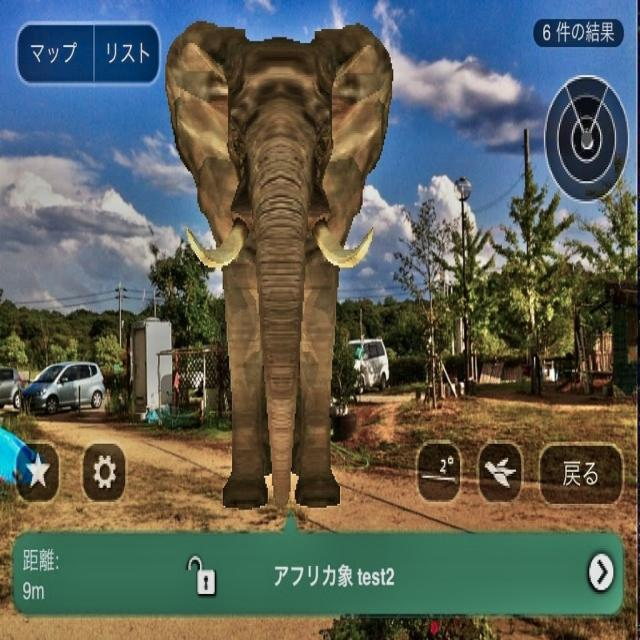elephant: (164, 19, 394, 512)
